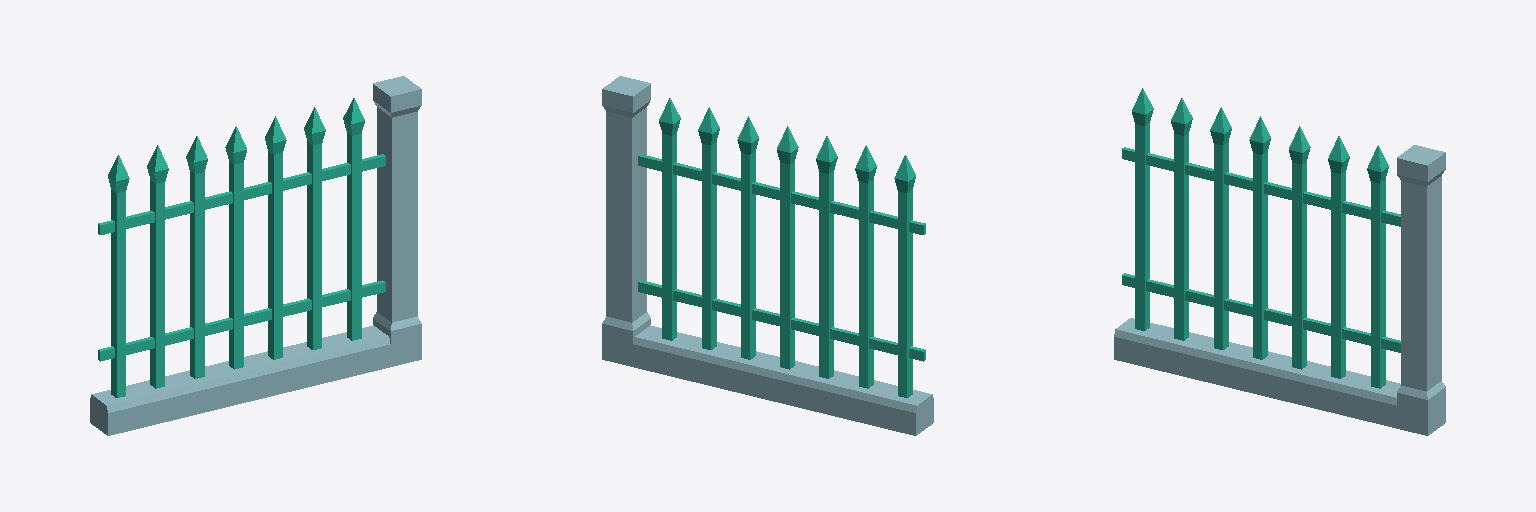
File: ironFenceBorderColumn.obj
The picture shows the model from 3 angles: view 1: azimuth 30°, elevation 25°; view 2: azimuth 150°, elevation 25°; view 3: azimuth 330°, elevation 25°; orthographic projection.
Visible parts, largest first — view 1: ironFenceBorderColumn; view 2: ironFenceBorderColumn; view 3: ironFenceBorderColumn.
Boxes of the visible parts, box(x1,y1,x2,y2) form: ironFenceBorderColumn: box(90, 76, 421, 435); ironFenceBorderColumn: box(602, 76, 933, 435); ironFenceBorderColumn: box(1114, 88, 1445, 435).
Bounding box in the file's own units: 1 × 0.8239 × 0.1.